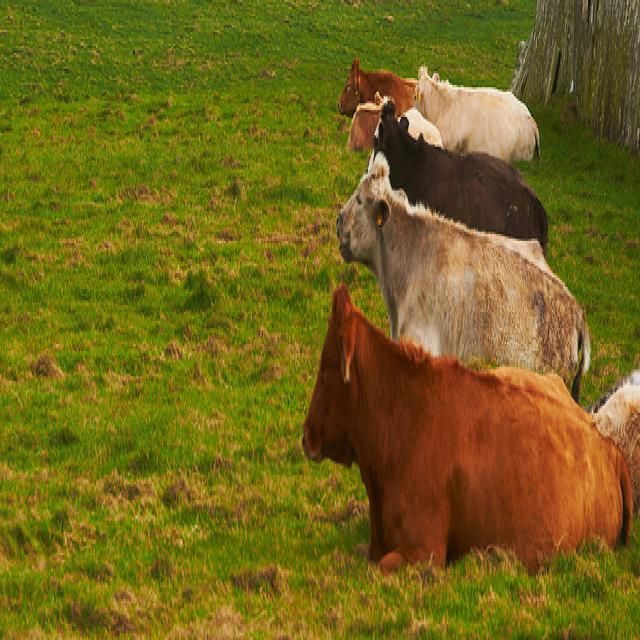cow: (300, 282, 631, 574), (333, 145, 590, 411), (374, 92, 547, 257), (412, 62, 540, 158), (593, 363, 639, 516), (337, 53, 415, 115), (344, 85, 382, 154), (397, 106, 444, 149)
